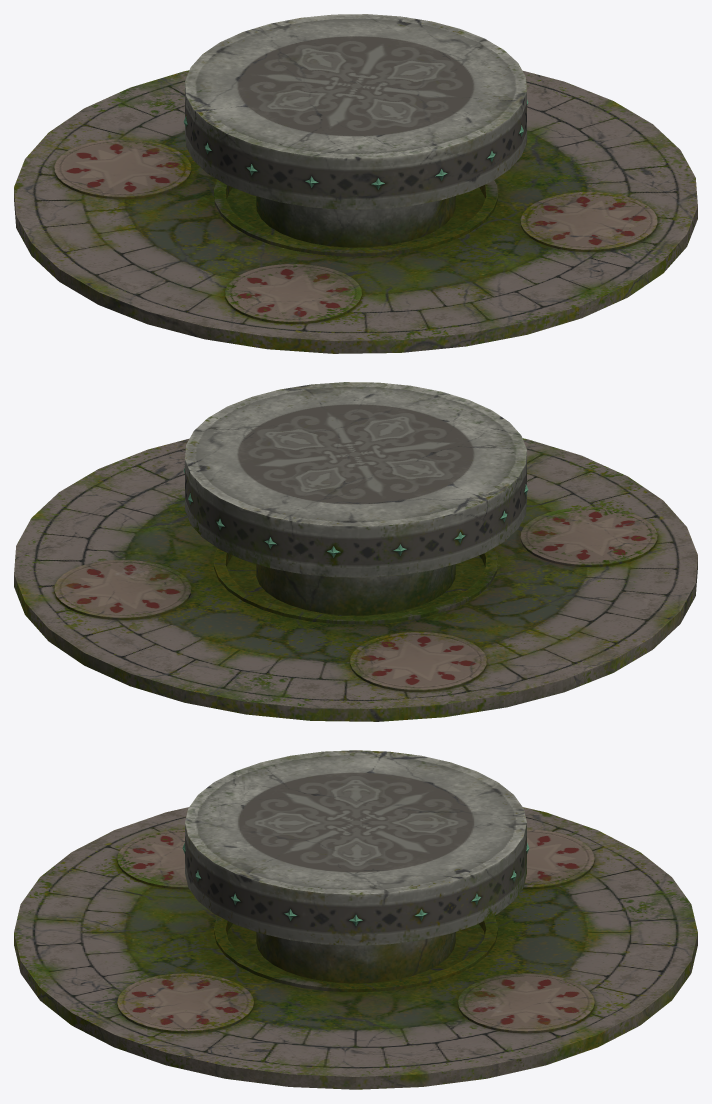
The model's file is sb_obj_outdoor030_RoundTable.fbx.
The picture shows the model from 3 angles, top to bottom: view 1: azimuth 30°, elevation 25°; view 2: azimuth 150°, elevation 25°; view 3: azimuth 270°, elevation 25°; orthographic projection.
Parts seen in each view (by area): view 1: sb_obj_outdoor030_RoundTable; view 2: sb_obj_outdoor030_RoundTable; view 3: sb_obj_outdoor030_RoundTable.
Part boxes in pixels (left/top/right/bottom): sb_obj_outdoor030_RoundTable: left=14, top=14, right=697, bottom=353; sb_obj_outdoor030_RoundTable: left=14, top=382, right=697, bottom=721; sb_obj_outdoor030_RoundTable: left=14, top=750, right=697, bottom=1089.
Size of the model in its own units: 4 by 0.792 by 4.
